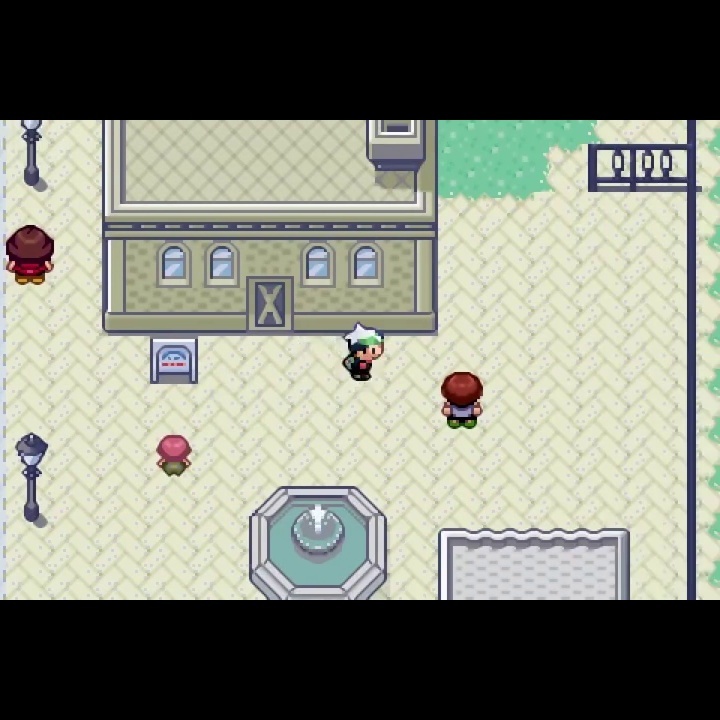house: (100, 121, 441, 336), (436, 527, 632, 599)
npc: (4, 221, 57, 288), (338, 320, 386, 386), (437, 370, 486, 430), (151, 432, 193, 479)
